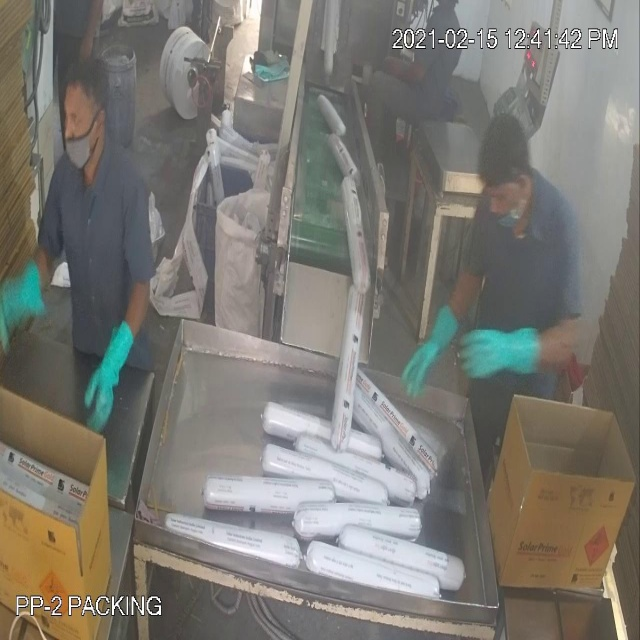Guantes: (77, 304, 138, 446), (397, 294, 466, 412), (461, 319, 558, 398)
Sin_guantes: (373, 40, 429, 100)
